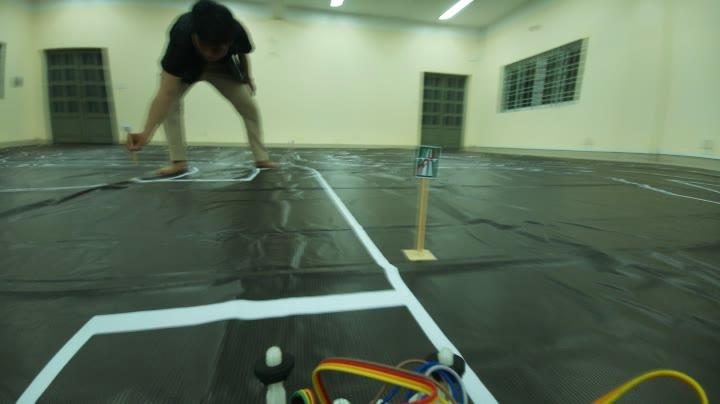highway_exit: (409, 140, 443, 181)
